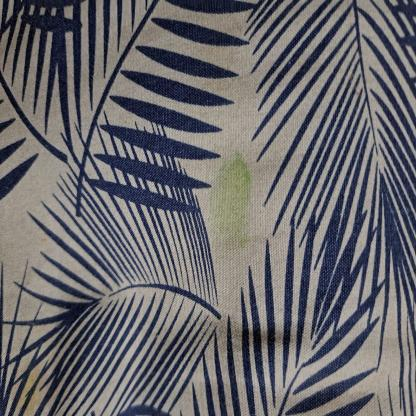spot: (206, 138, 256, 274)
